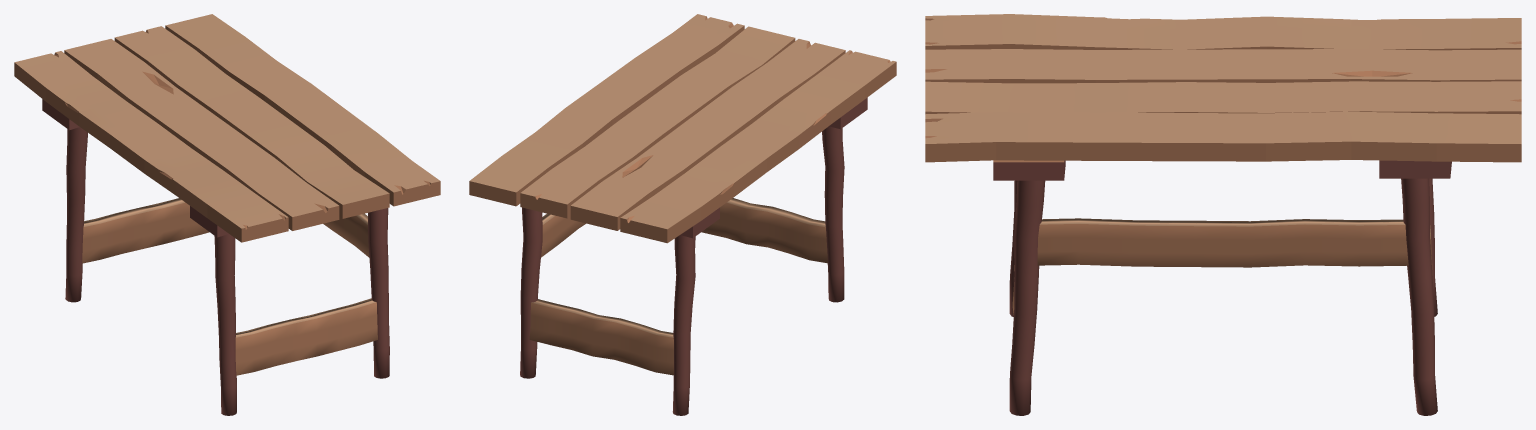
The model's file is table.fbx.
3 views of the same model, side by side, from view 1: azimuth 30°, elevation 25°; view 2: azimuth 150°, elevation 25°; view 3: azimuth 270°, elevation 25° (orthographic). The views are drawn at different scales.
Parts seen in each view (by area): view 1: TableTop, Legs, Cube.008, Cube.007, Cube.006, TableUnder; view 2: TableTop, Legs, Cube.007, Cube.008, Cube.006, TableUnder; view 3: TableTop, Cube.006, Legs, TableUnder.
Part boxes in pixels (box(x1,y1,x2,y2)): TableTop: box(14, 14, 440, 242); Legs: box(65, 127, 389, 415); Cube.008: box(235, 298, 377, 375); Cube.007: box(82, 198, 209, 263); Cube.006: box(323, 213, 369, 257); TableUnder: box(42, 99, 228, 237); TableTop: box(469, 14, 896, 243); Legs: box(520, 126, 844, 415); Cube.007: box(529, 299, 673, 375); Cube.008: box(701, 198, 827, 263); Cube.006: box(541, 213, 585, 257); TableUnder: box(680, 97, 867, 238); TableTop: box(925, 14, 1521, 162); Cube.006: box(1037, 218, 1408, 267); Legs: box(1009, 178, 1437, 415); TableUnder: box(993, 160, 1451, 180).
Size of the model in its own units: 3.65 by 1.87 by 1.92.
